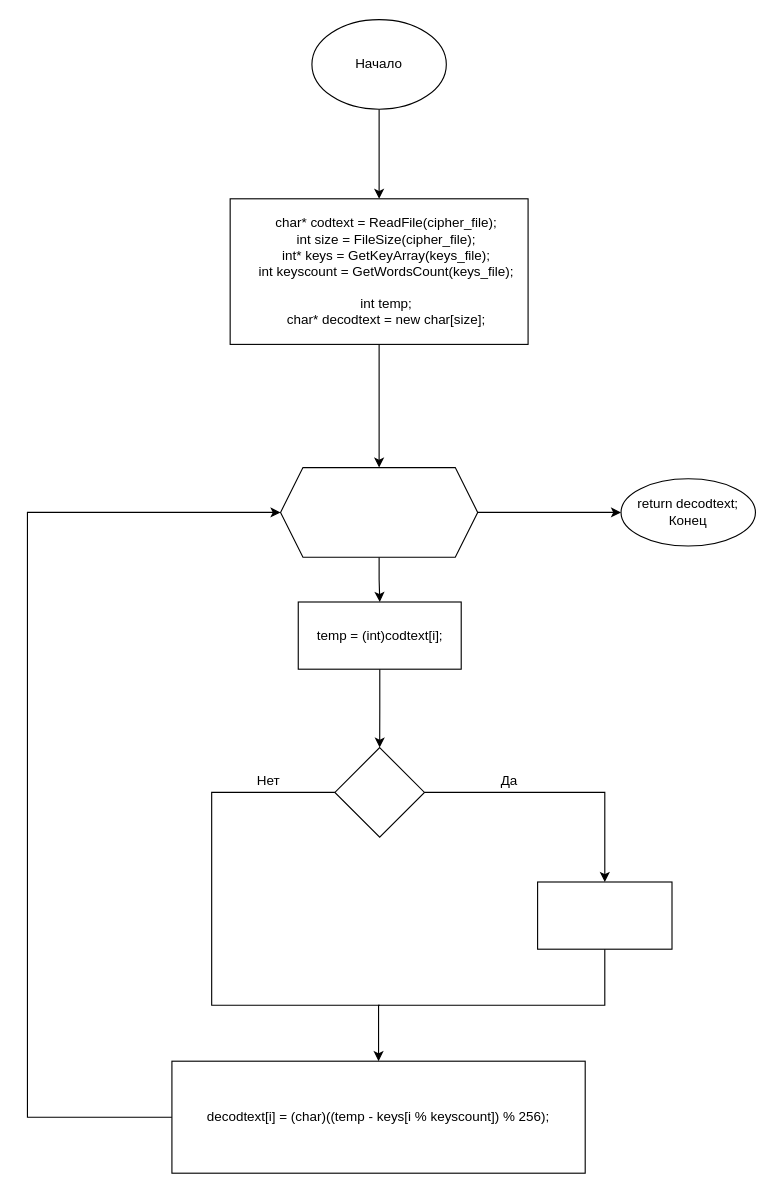
Some shapes in this 775 by 1193 pixel diagram are drawn without their labels. Each missing label, with the box of its shape:
for (int i = 0; i < size; i++): (279, 466, 478, 557)
temp += 256: (536, 881, 672, 949)
temp < 0: (334, 746, 424, 837)
